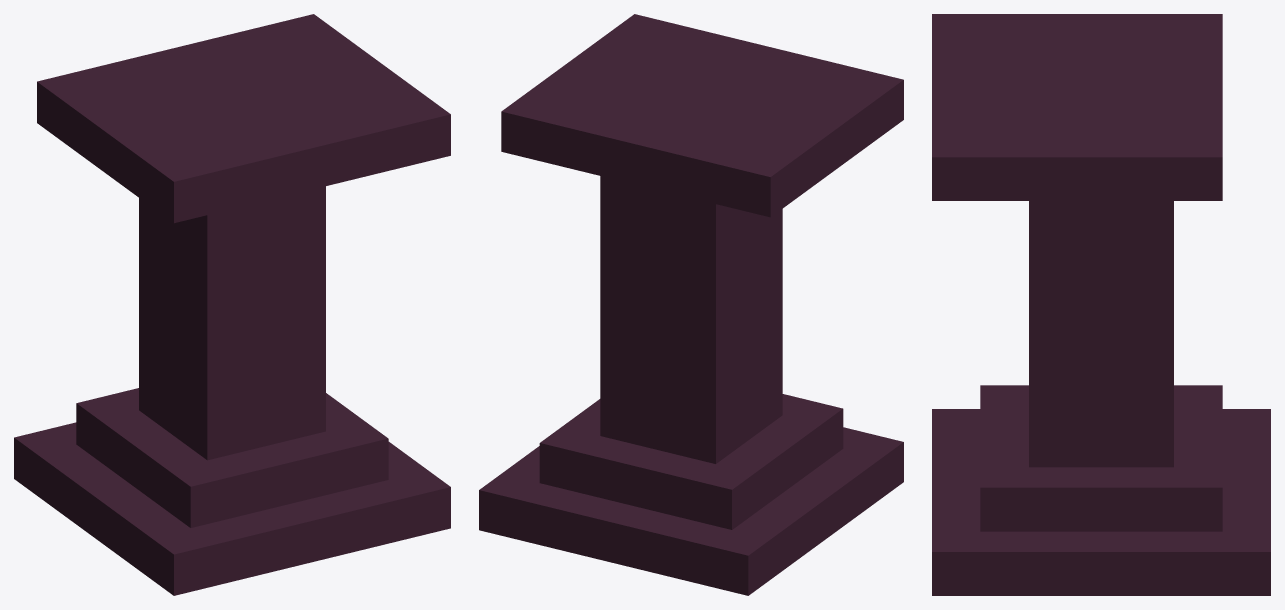
File: altar_c_b.obj
3 renders of one model, left to right at view 1: azimuth 30°, elevation 25°; view 2: azimuth 150°, elevation 25°; view 3: azimuth 270°, elevation 25°, orthographic. The views are drawn at different scales.
Size of the model in its own units: 0.7 by 1 by 0.7.
1 material, 1 textured.
